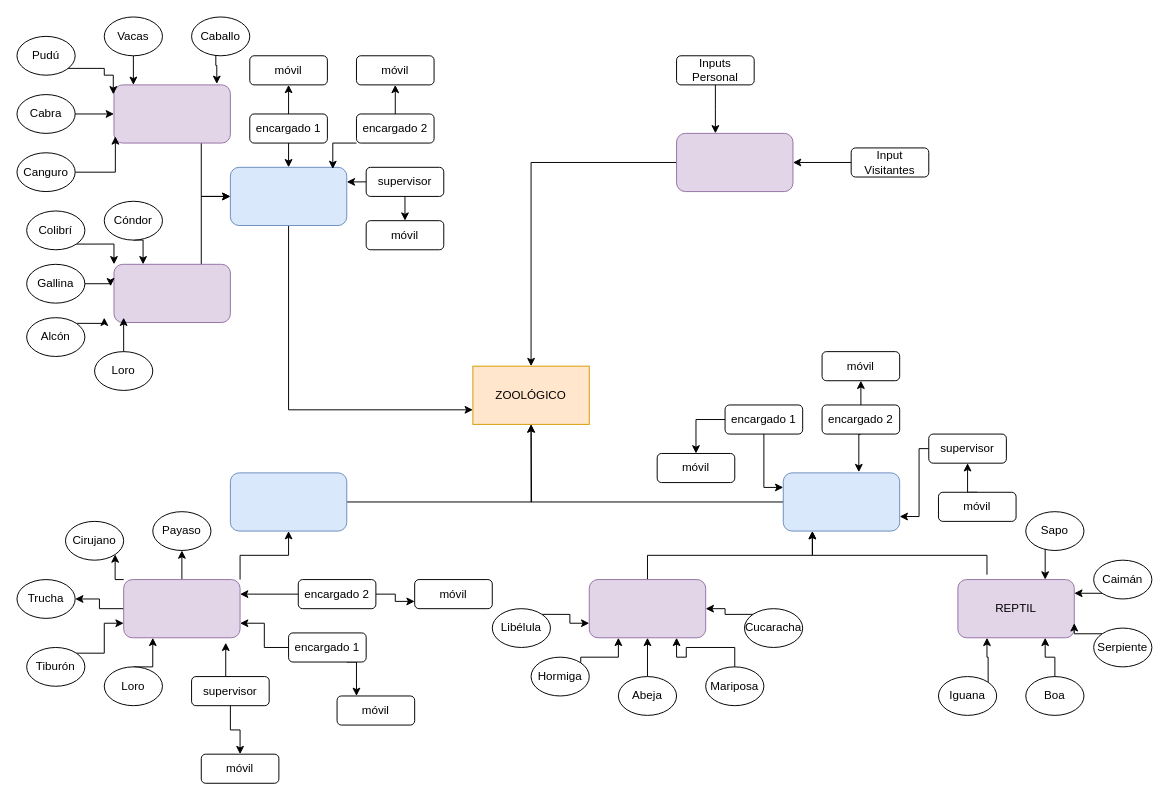
Some shapes in this 1169 by 800 pixel diagram are drawn without their labels. The shapes that lost their labels are listed below. From the top down, each one's centre as x and y in pixels, then its label:
point (171, 113): MAMÍFERO
point (734, 162): LIBRO NOVEDADES
point (288, 196): Área 1 Mamíferos y Aves
point (171, 293): AVE
point (288, 501): Área 3 Peces
point (841, 501): Área 2 Insectos y Reptiles
point (181, 608): PEZ
point (647, 608): INSECTO
